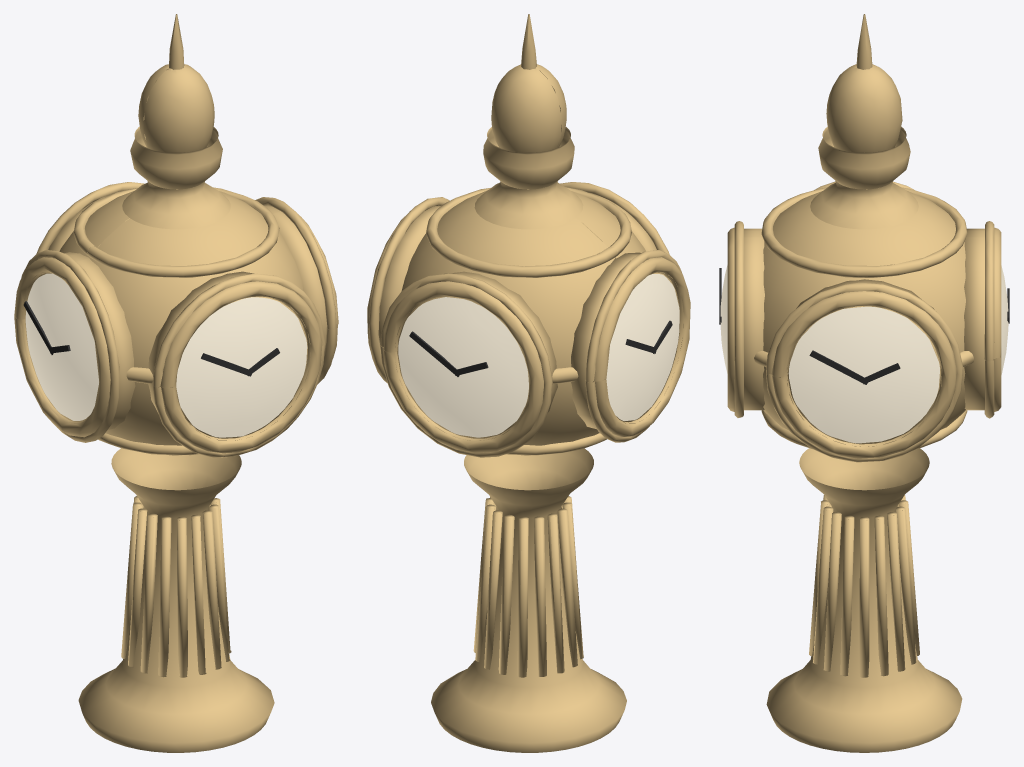
The model's file is opal_clock.glb.
The picture shows the model from 3 angles, left to right: view 1: azimuth 30°, elevation 25°; view 2: azimuth 150°, elevation 25°; view 3: azimuth 270°, elevation 25°; orthographic projection.
Parts seen in each view (by area): view 1: stem; view 2: stem; view 3: stem.
Boxes of the visible parts, x1,y1,x2,y2 form: stem: [14, 14, 338, 752]; stem: [367, 14, 690, 752]; stem: [719, 14, 1009, 752].
Size of the model in its own units: 1.07 by 2.84 by 1.07.
3 materials, 1 textured.
